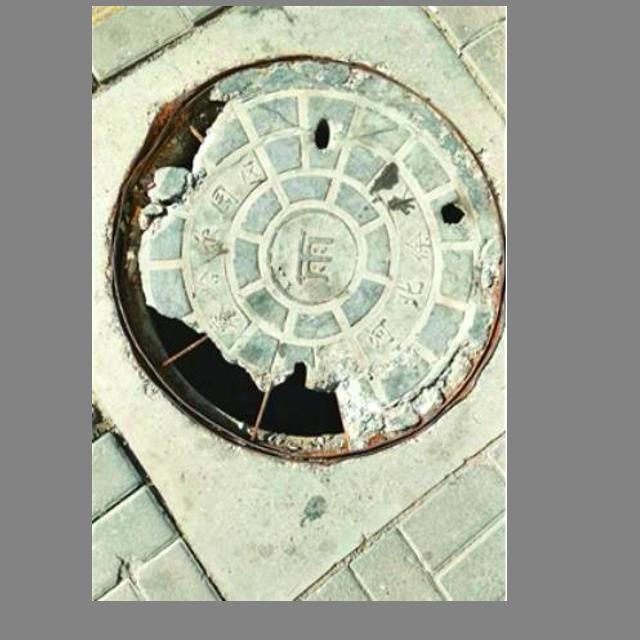broke: (98, 63, 499, 450)
